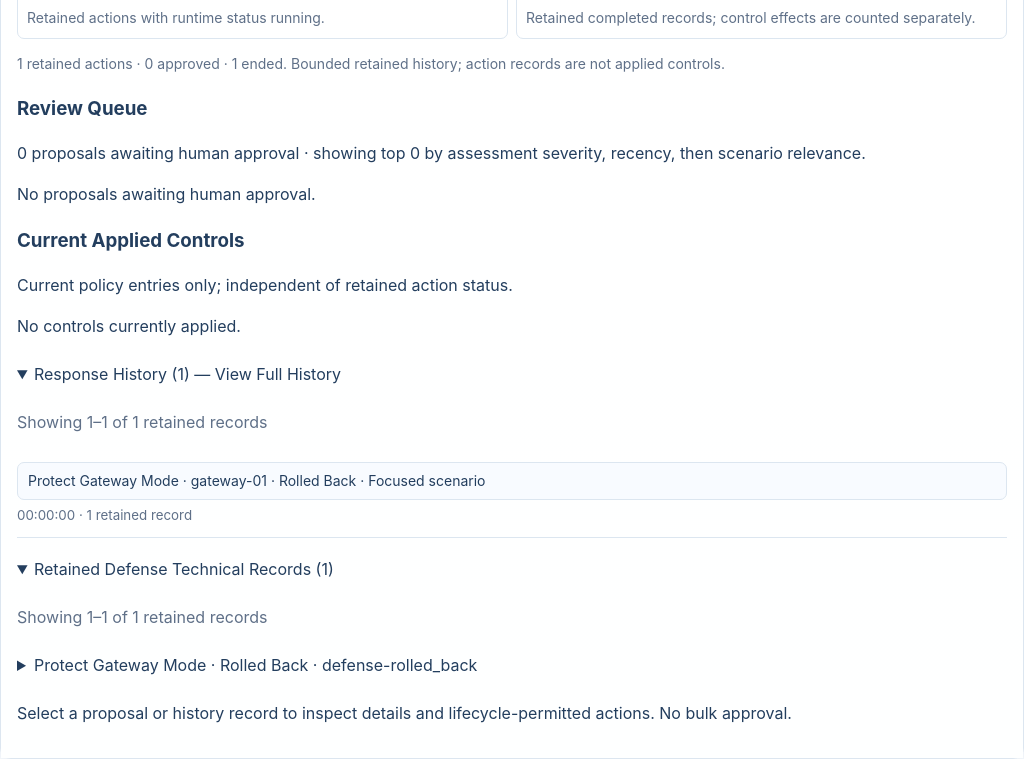
defense lifecycle controls › renders a rolled-back action as read-only
This screenshot has width=1024, height=759.
(page scrolled)
Click the button at (103, 481), box 17,462 -> 1007,500
(page scrolled)
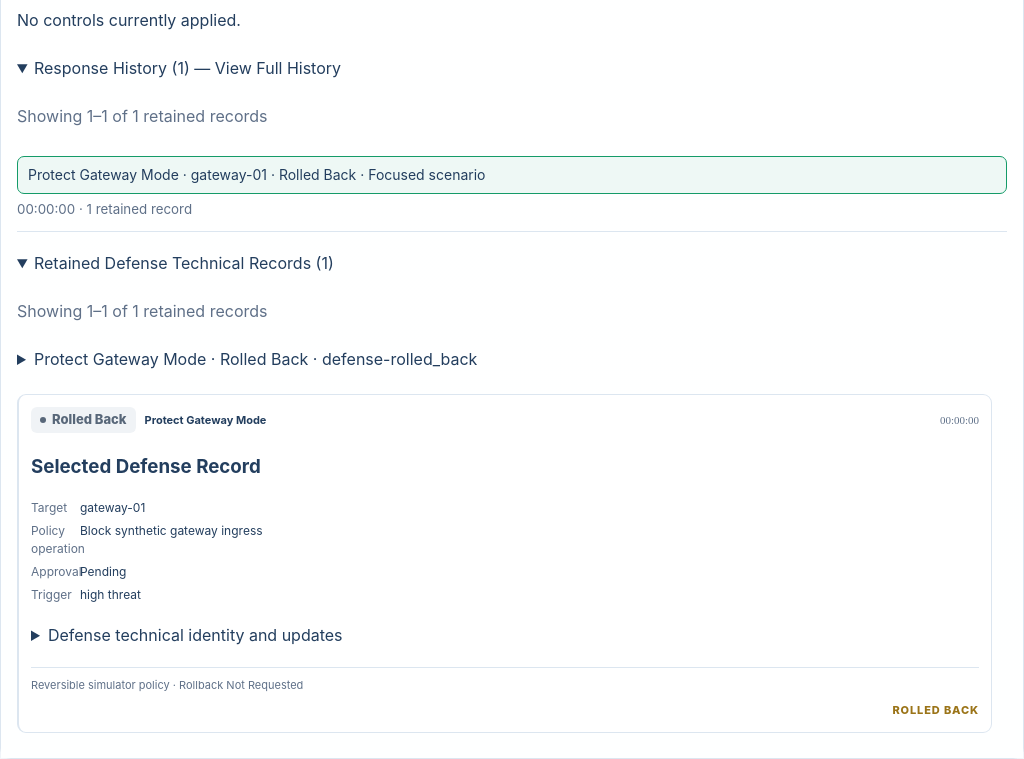
Check: the text "Rolled Back" is shown, box 892,702 -> 979,720
